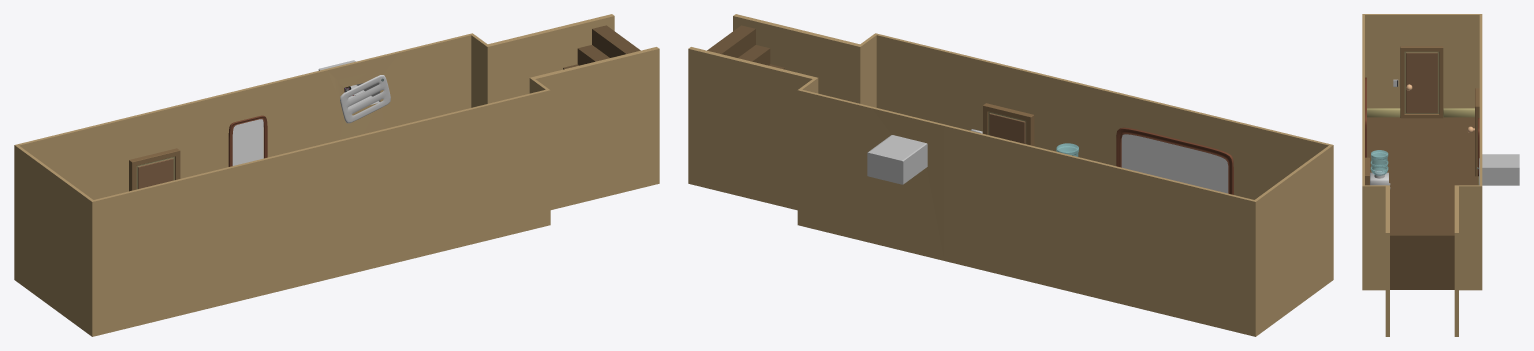
File: Hall.fbx
3 renders of one model, left to right at view 1: azimuth 30°, elevation 25°; view 2: azimuth 150°, elevation 25°; view 3: azimuth 270°, elevation 25°, orthographic. The views are drawn at different scales.
Visible parts, largest first — view 1: Walls2, Walls1, Mirror, Door.002, Cube.003; view 2: Walls1, Walls2, Window, Door; view 3: Walls1, Floor, Walls2, Door.001, Cube.011, Water Cooler, Door.002, Window, Door.
Part boxes in pixels (bbox=[...]): Walls2: bbox=[14, 89, 548, 336]; Walls1: bbox=[18, 14, 659, 225]; Mirror: bbox=[228, 115, 267, 166]; Door.002: bbox=[129, 148, 180, 191]; Cube.003: bbox=[340, 75, 390, 123]; Walls1: bbox=[688, 14, 1253, 336]; Walls2: bbox=[876, 33, 1333, 336]; Window: bbox=[1116, 127, 1233, 194]; Door: bbox=[983, 103, 1034, 145]; Walls1: bbox=[1362, 15, 1519, 336]; Floor: bbox=[1367, 117, 1478, 229]; Walls2: bbox=[1362, 14, 1482, 185]; Door.001: bbox=[1400, 46, 1443, 118]; Cube.011: bbox=[1367, 108, 1474, 117]; Water Cooler: bbox=[1370, 150, 1390, 188]; Door.002: bbox=[1467, 88, 1479, 176]; Window: bbox=[1365, 77, 1366, 157]; Door: bbox=[1365, 157, 1369, 185].
Size of the model in its own units: 1342 by 297 by 407.
